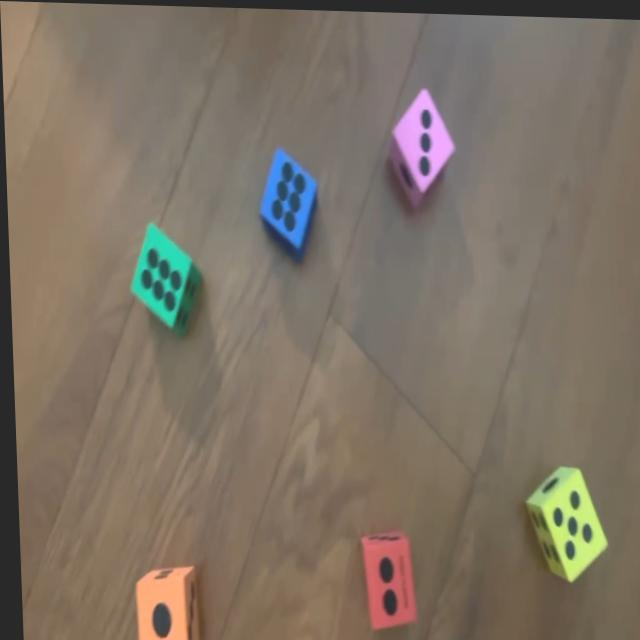cube: (127, 219, 202, 334), (254, 145, 318, 254), (357, 525, 414, 626)
